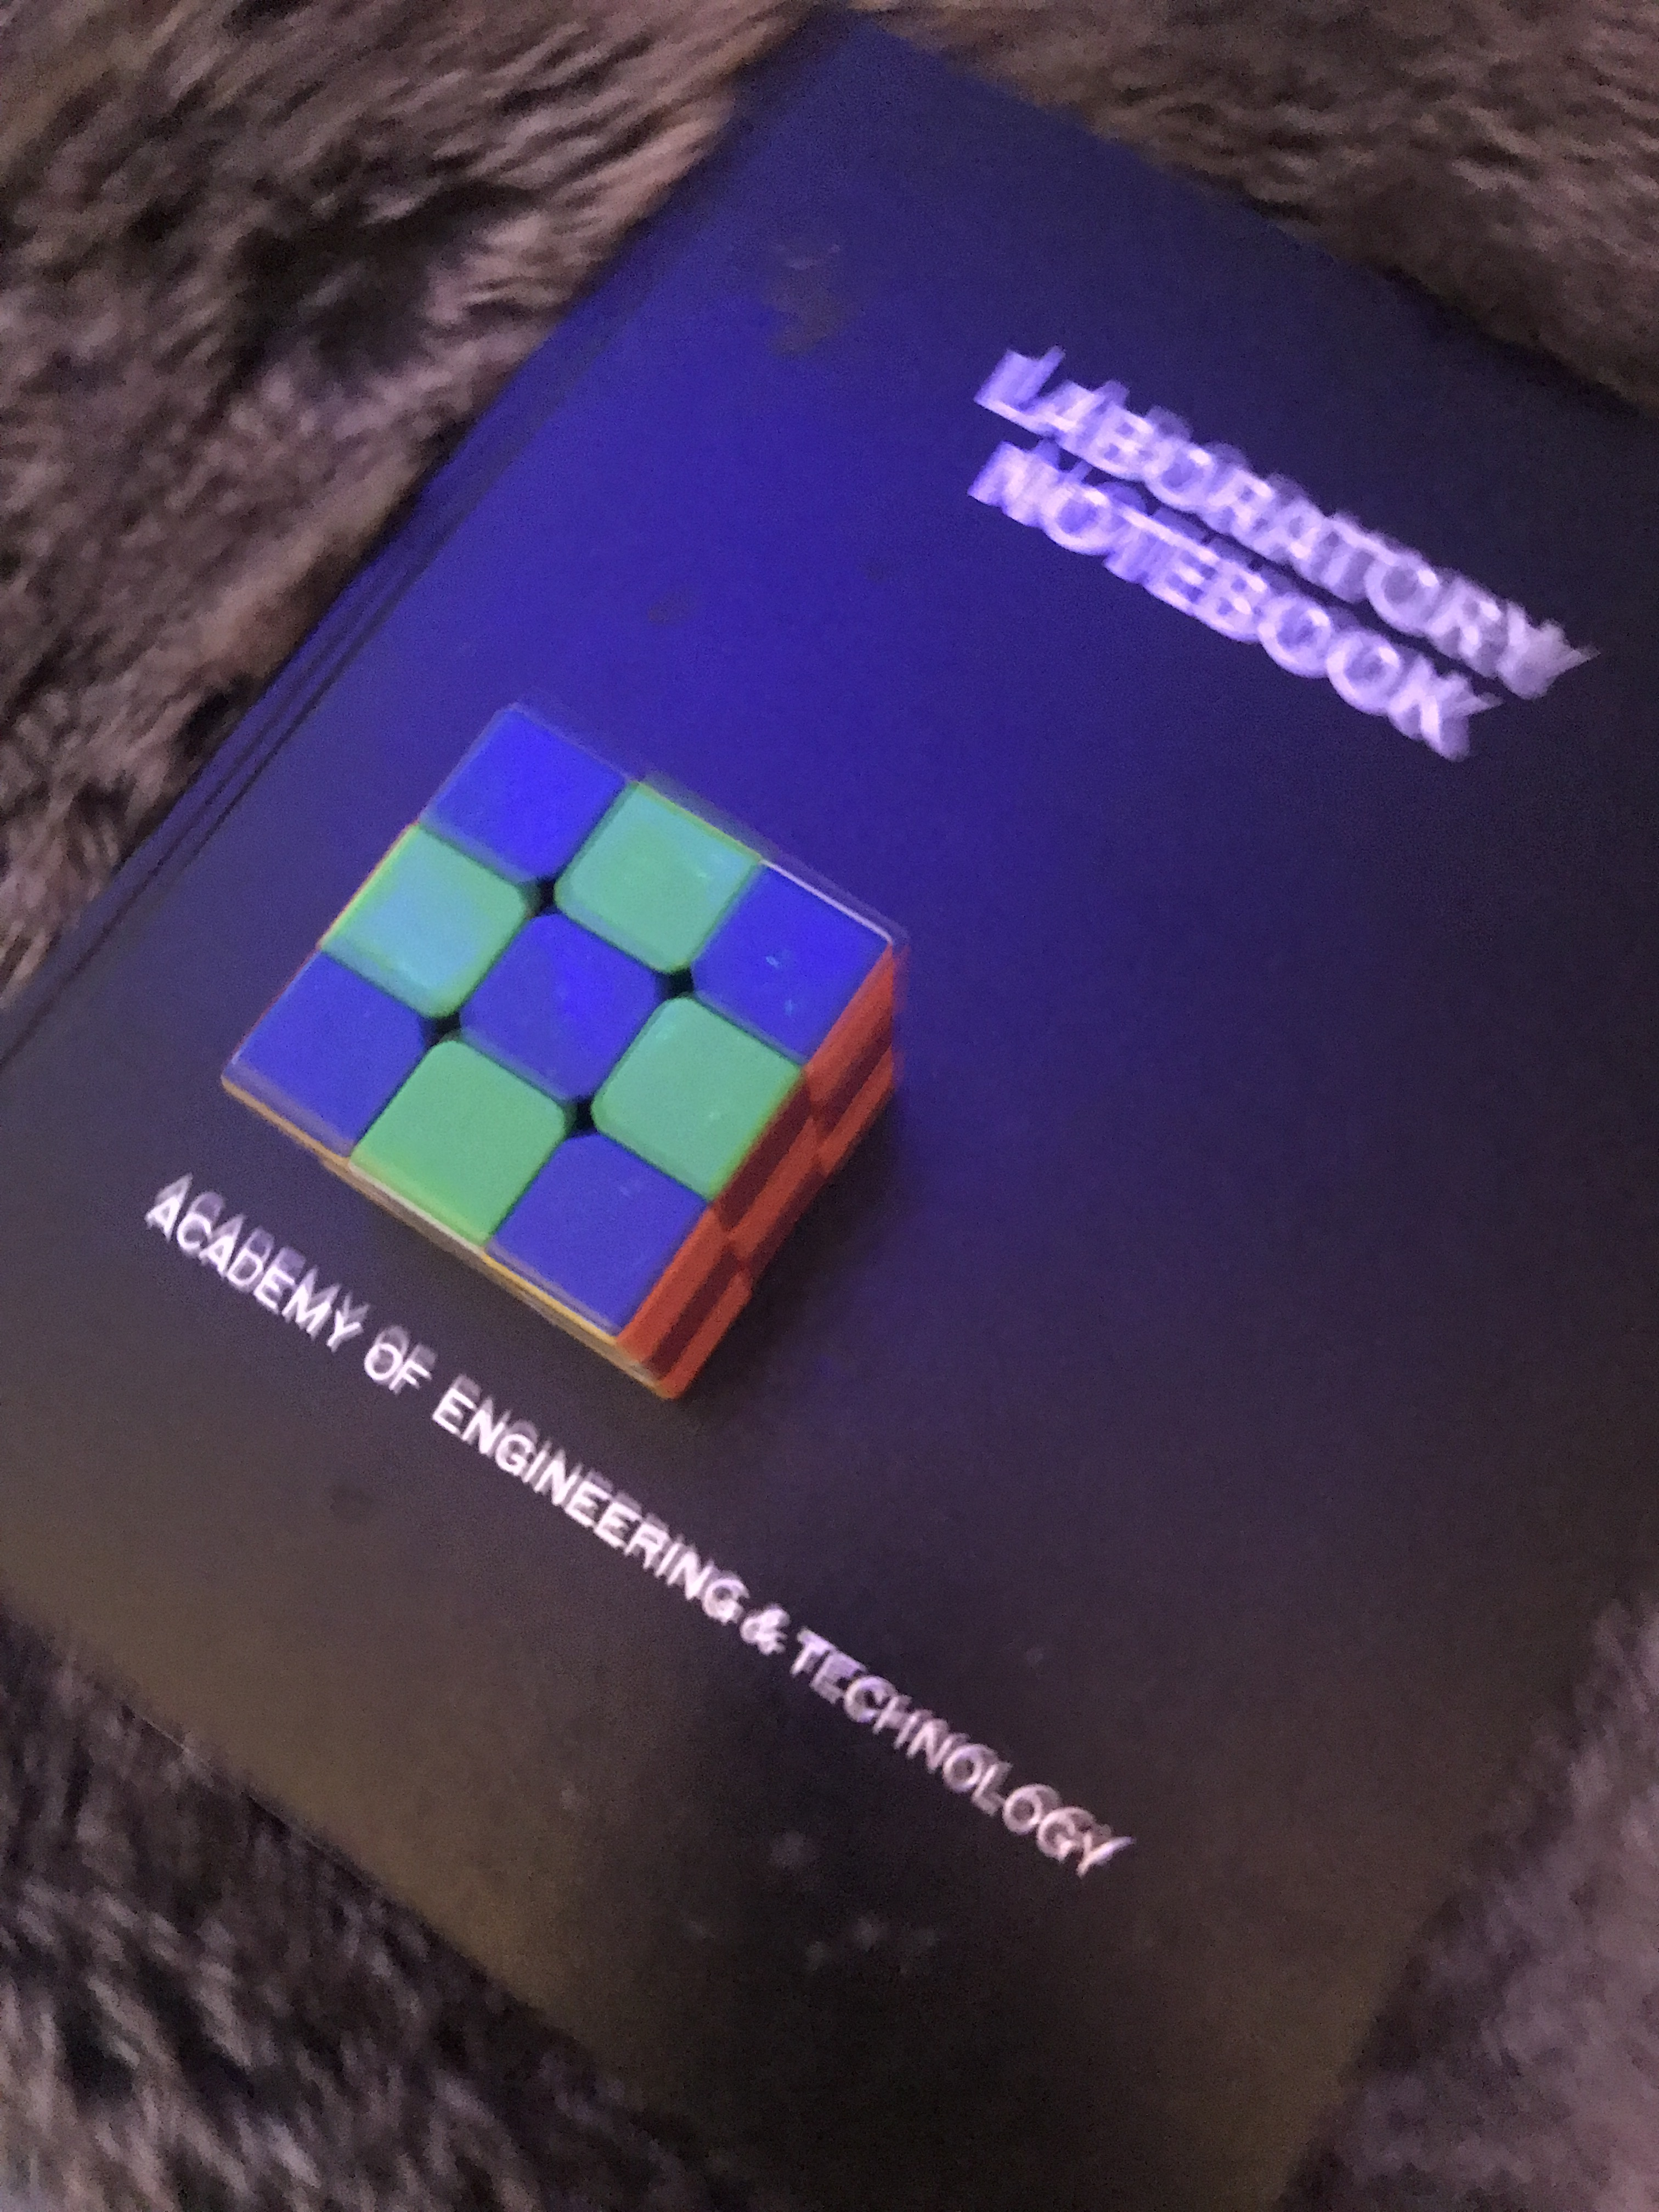rubiks: (221, 700, 911, 1411)
